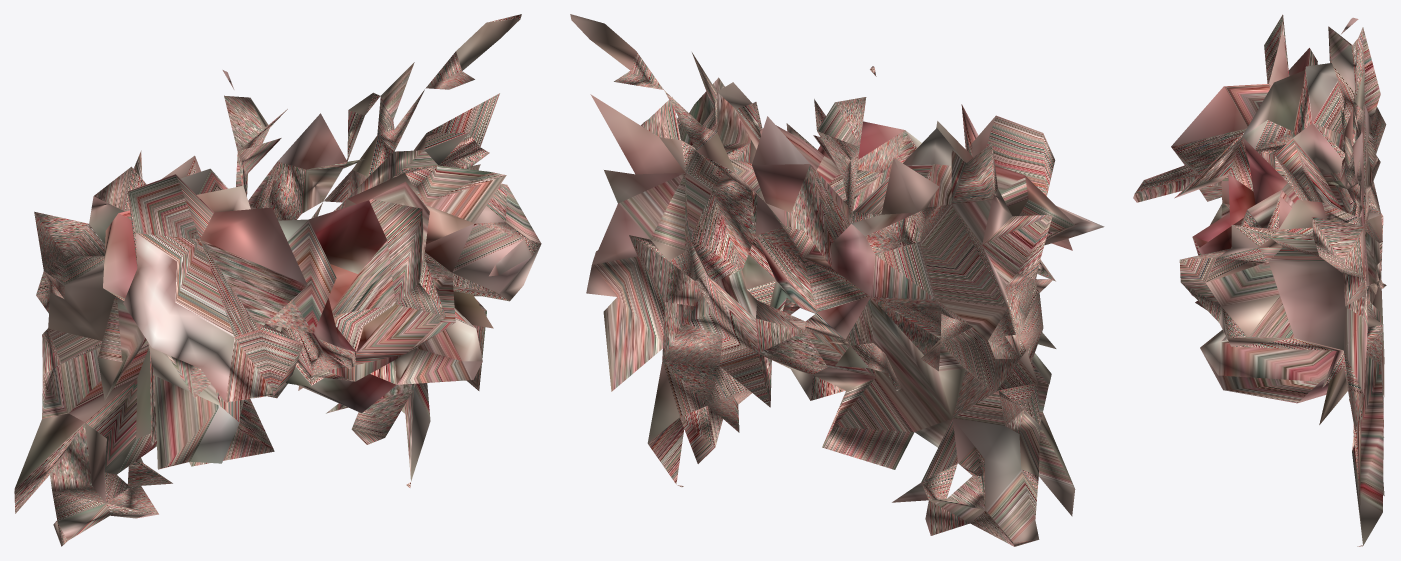
The picture shows the model from 3 angles, left to right: view 1: azimuth 30°, elevation 25°; view 2: azimuth 150°, elevation 25°; view 3: azimuth 270°, elevation 25°; orthographic projection. The views are drawn at different scales.
Visible parts, largest first — view 1: Rose-Bouquet-10-01; view 2: Rose-Bouquet-10-01; view 3: Rose-Bouquet-10-01.
Part boxes in pixels (x1=…): Rose-Bouquet-10-01: x1=14, y1=14, x2=541, y2=546; Rose-Bouquet-10-01: x1=570, y1=14, x2=1104, y2=546; Rose-Bouquet-10-01: x1=1133, y1=14, x2=1386, y2=546.
Bounding box in the file's own units: 0.3255 × 0.2852 × 0.1484.
1 material, 1 textured.
